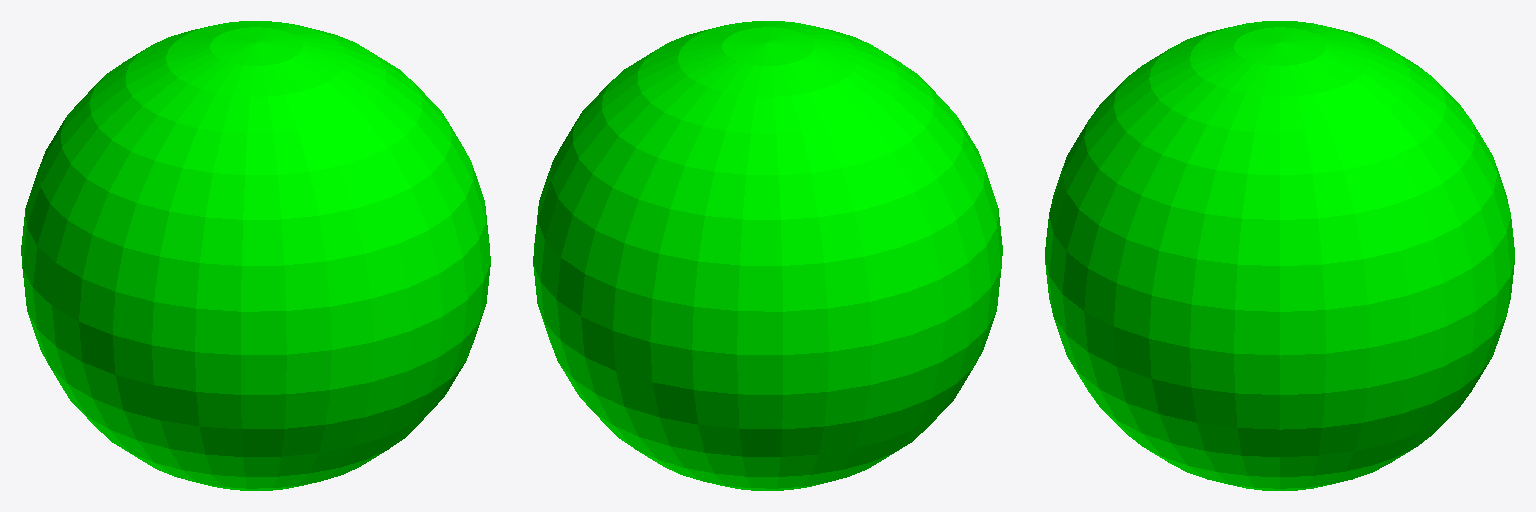
File: debug_bounding_sphere.obj
3 views of the same model, side by side, from view 1: azimuth 30°, elevation 25°; view 2: azimuth 150°, elevation 25°; view 3: azimuth 270°, elevation 25° (orthographic).
Visible parts, largest first — view 1: Sphere; view 2: Sphere; view 3: Sphere.
Part boxes in pixels (x1,y1,x2,y2): Sphere: (21,21,490,490); Sphere: (533,21,1002,490); Sphere: (1045,21,1514,490).
Size of the model in its own units: 2 by 2 by 2.